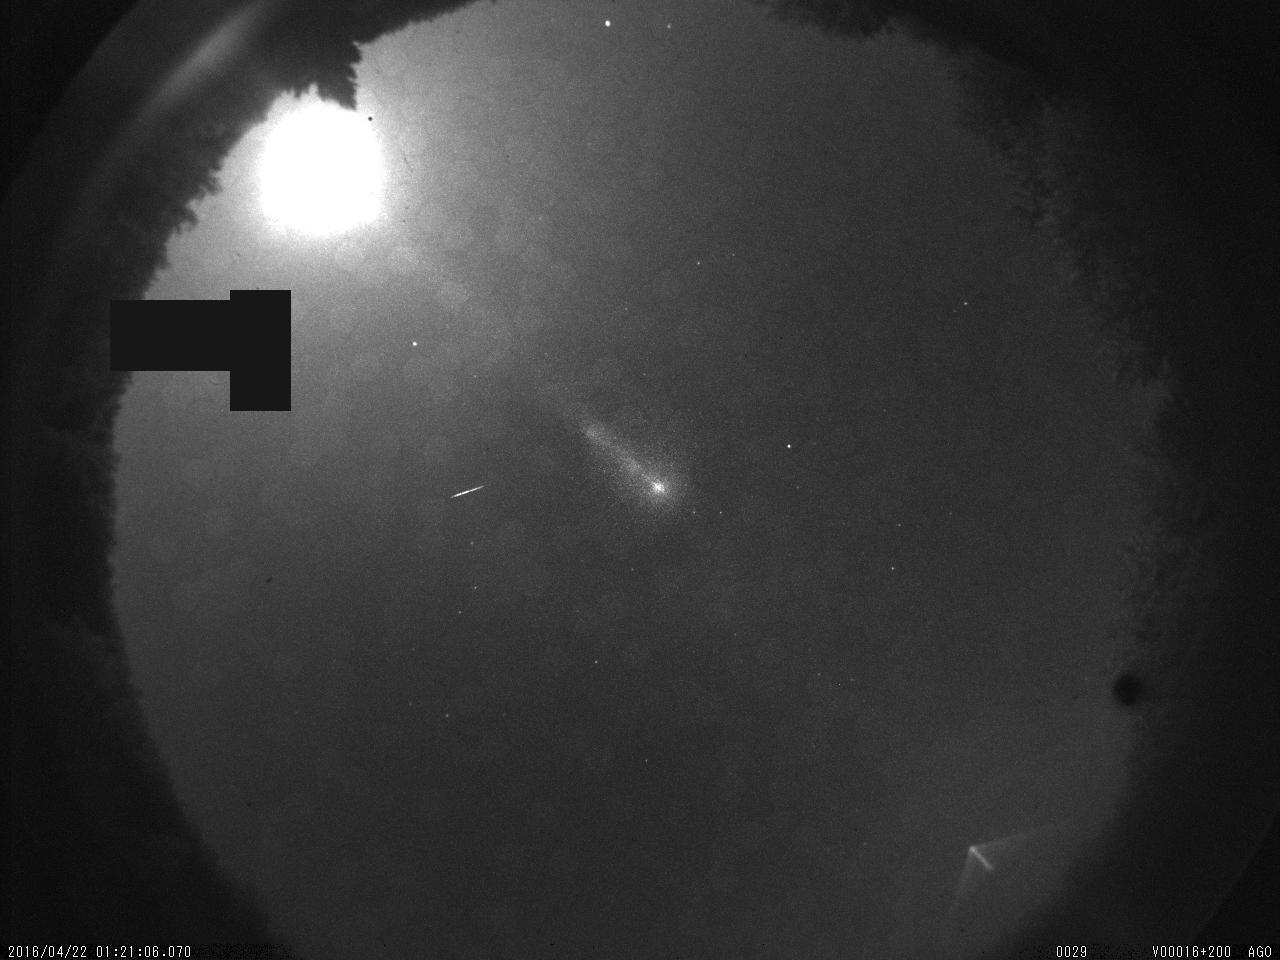meteor: (444, 475, 495, 510)
